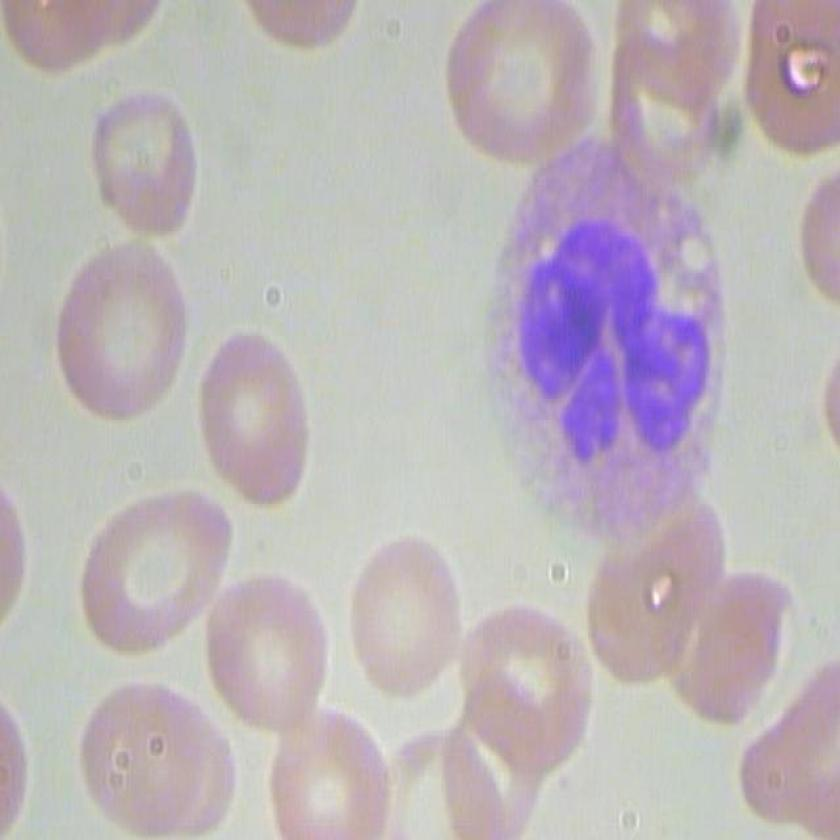neutrophil: (479, 134, 735, 546)
